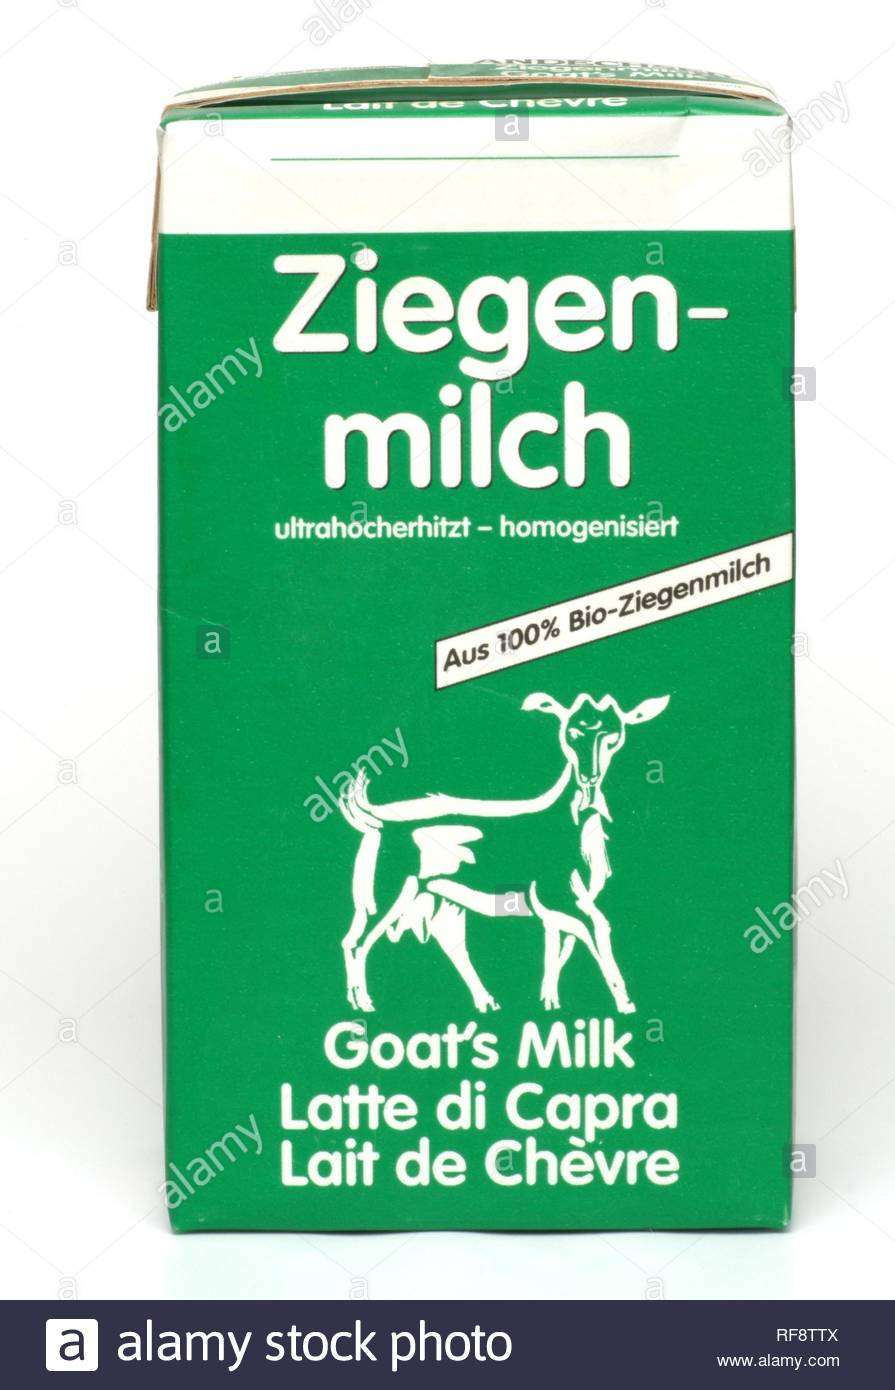carton: (106, 35, 855, 1275)
